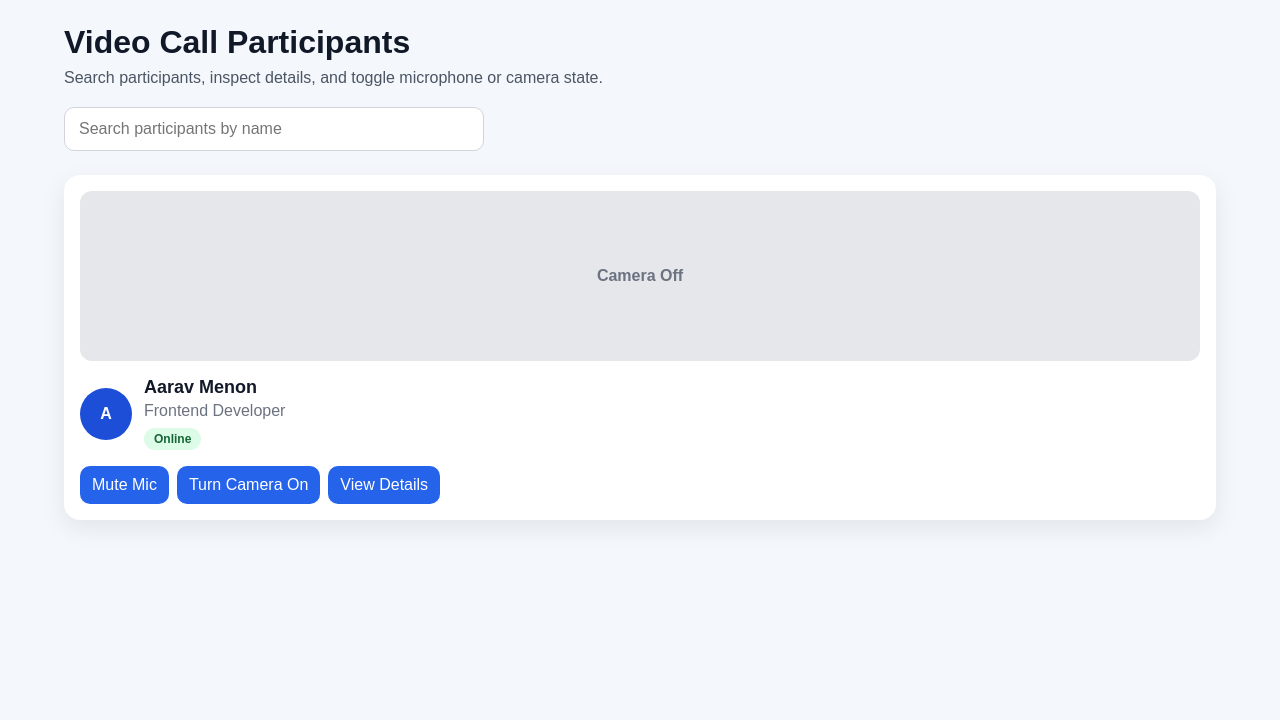
Test: HomePage › shows error message when mic update fails
Expected: the heading "Aarav Menon" is shown, [144,377,257,397]
Click the button "Mute Mic": (124, 485) [80,466,169,504]
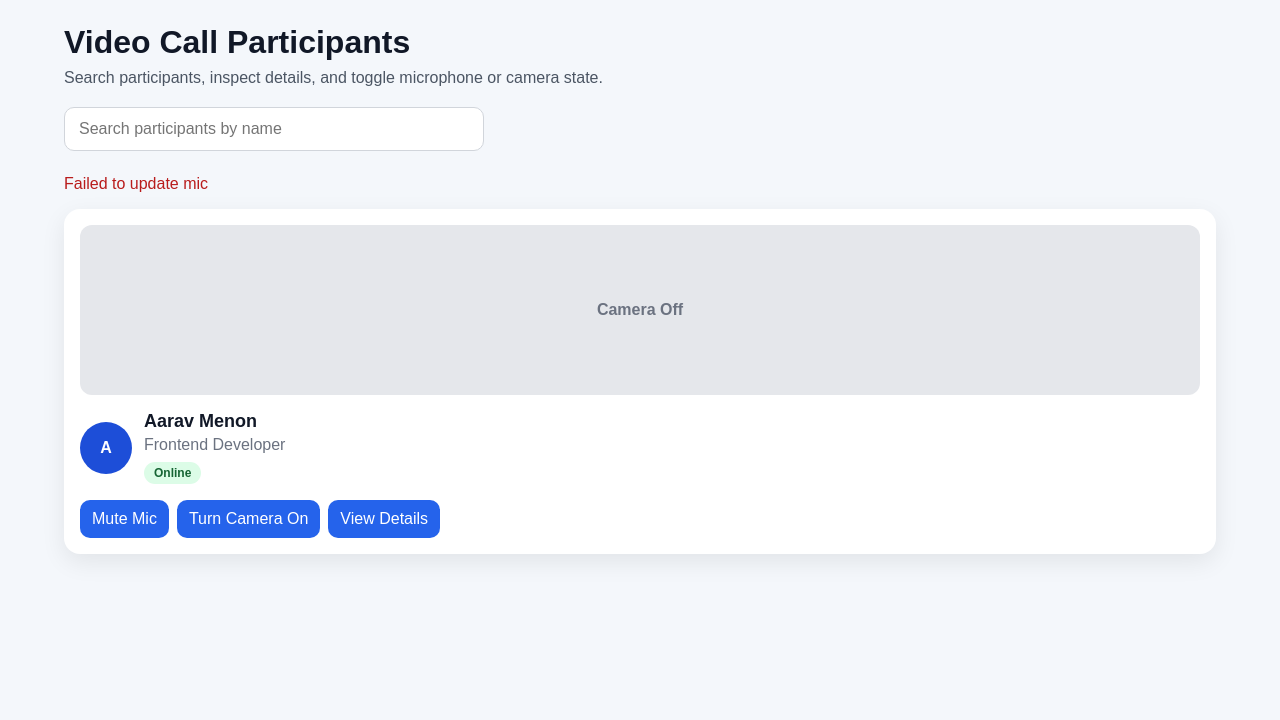
Expected: the text "Failed to update mic" is shown, [64,175,208,192]
